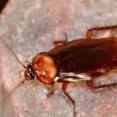cockroach: (20, 34, 116, 90)
